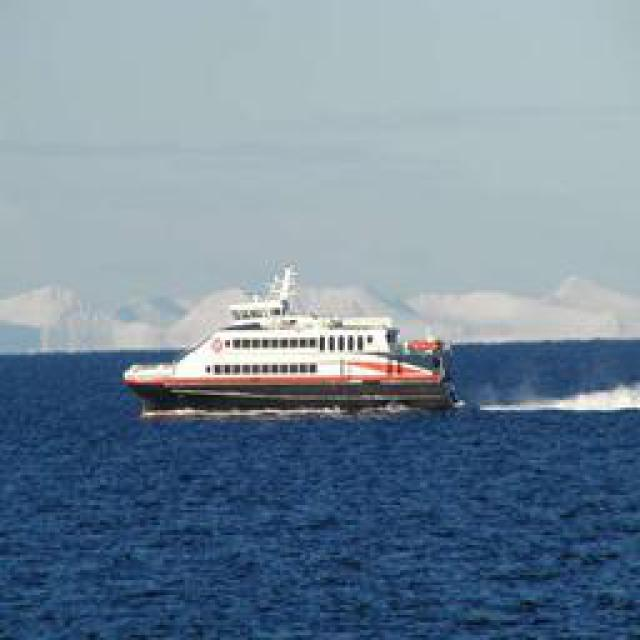Ship: (128, 262, 453, 415)
